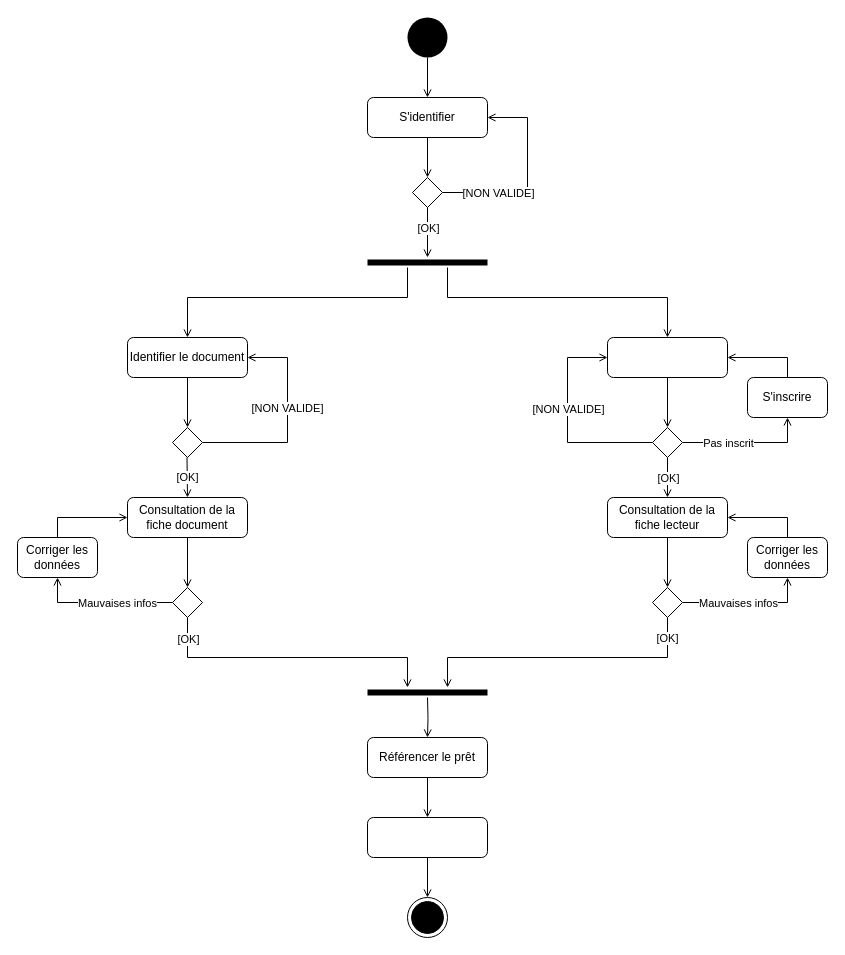
This 845x955 diagram has some shape labels left out. The shapes that lost their labels are listed below. From the top down, each one's centre as x and y in pixels, then its label:
the point at 667,357: Identifier l'adhérent
the point at 427,837: Génération d'une fiche de prêt
